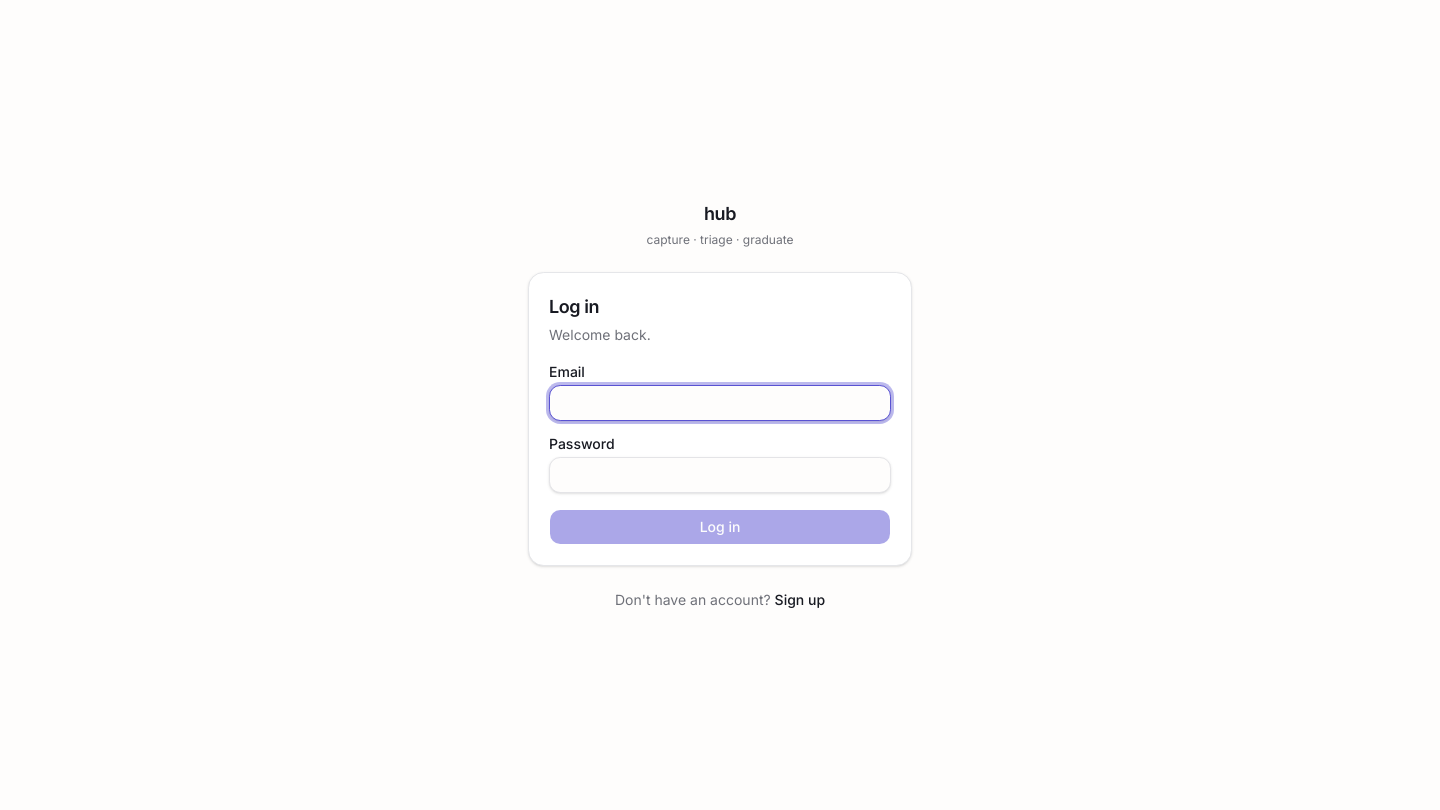
Test: Auth to dashboard flow › shows login when unauthenticated, then the dashboard with their projects after logging in
expect the text "Welcome back." is shown: met, box [549,326,651,343]
Type "me@example.com" into the field labelled "Email" at (720, 403), box [549,385,891,421]
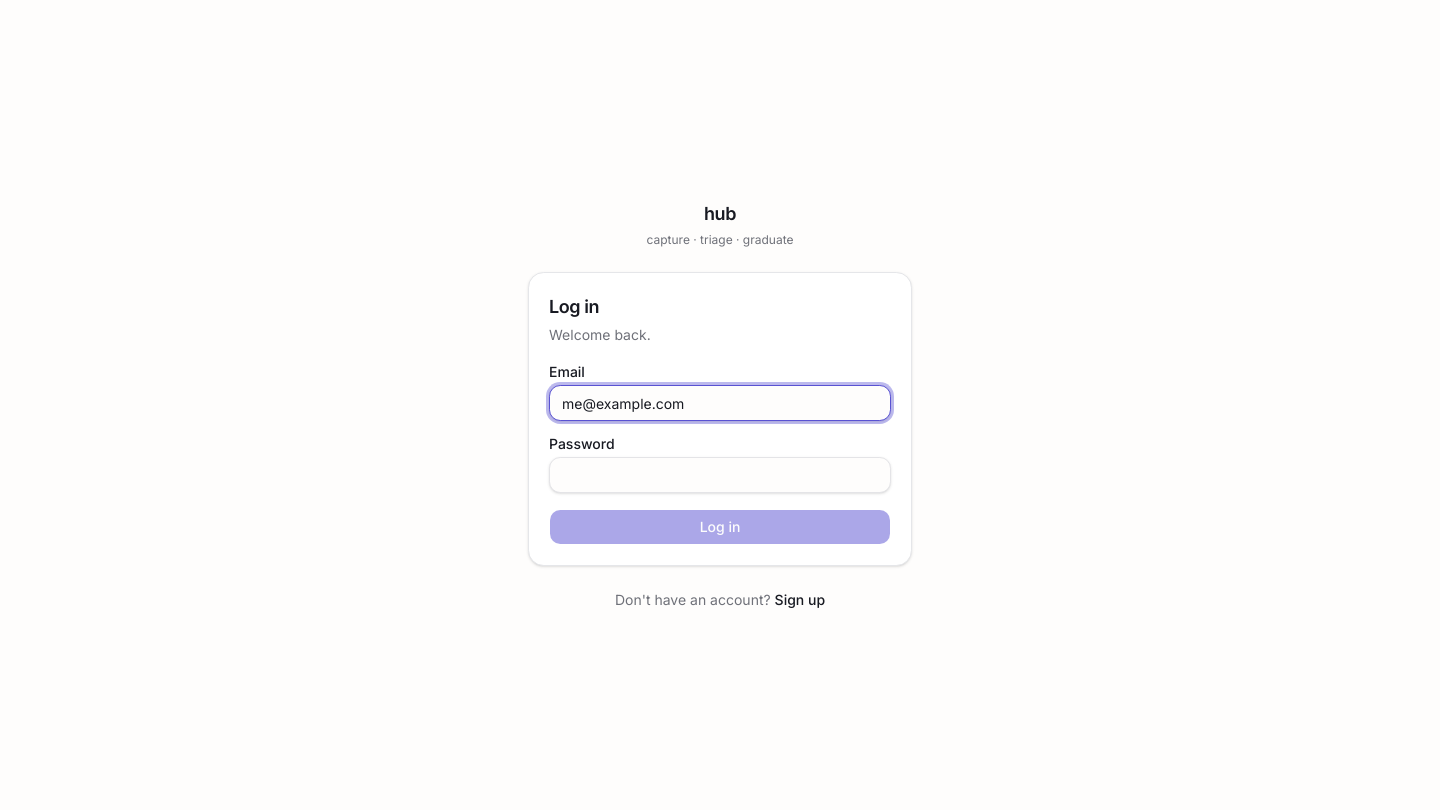
Type "correct-password" into the password field labelled "Password" at (720, 475), box [549,457,891,493]
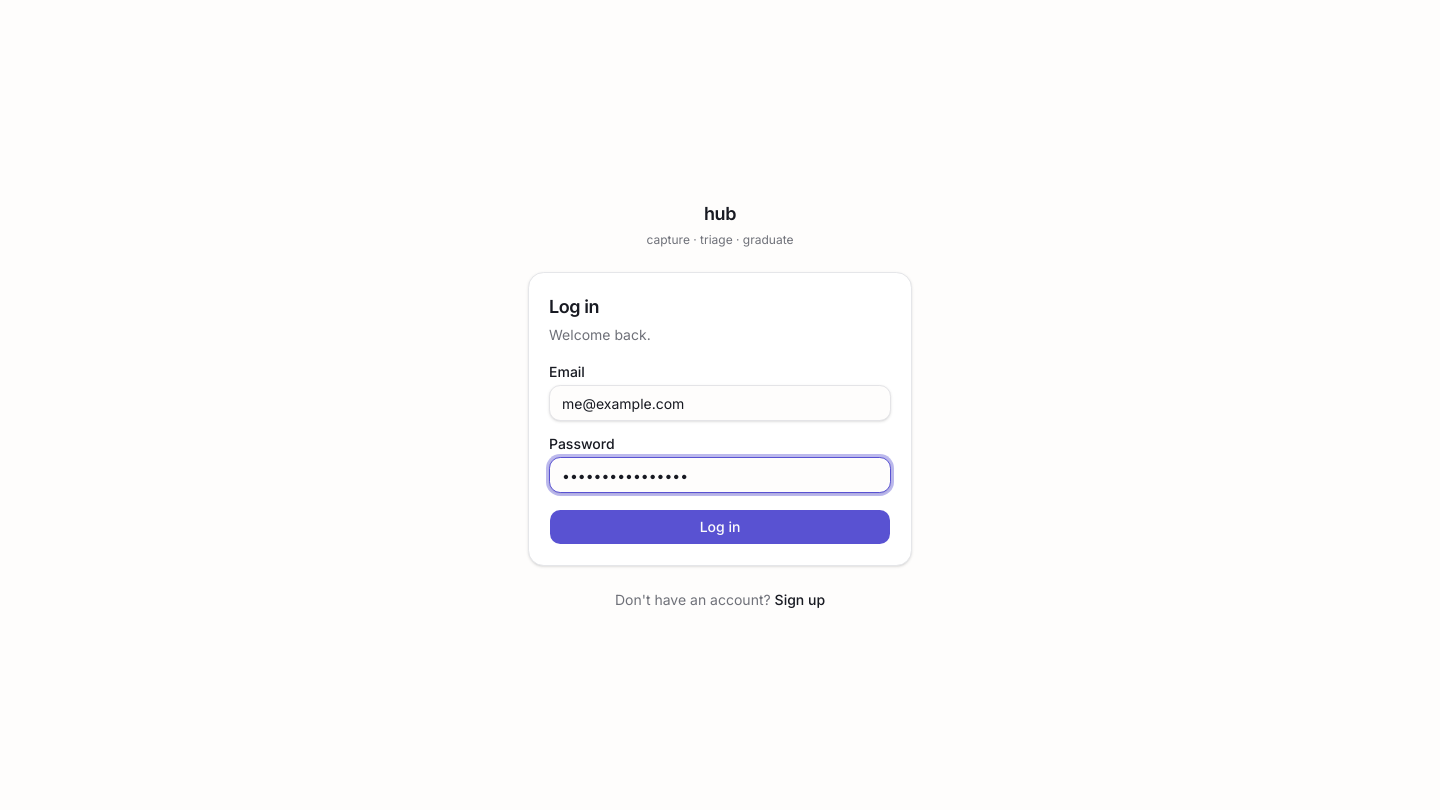
Click the button "Log in" at (720, 527), box [549,509,891,545]
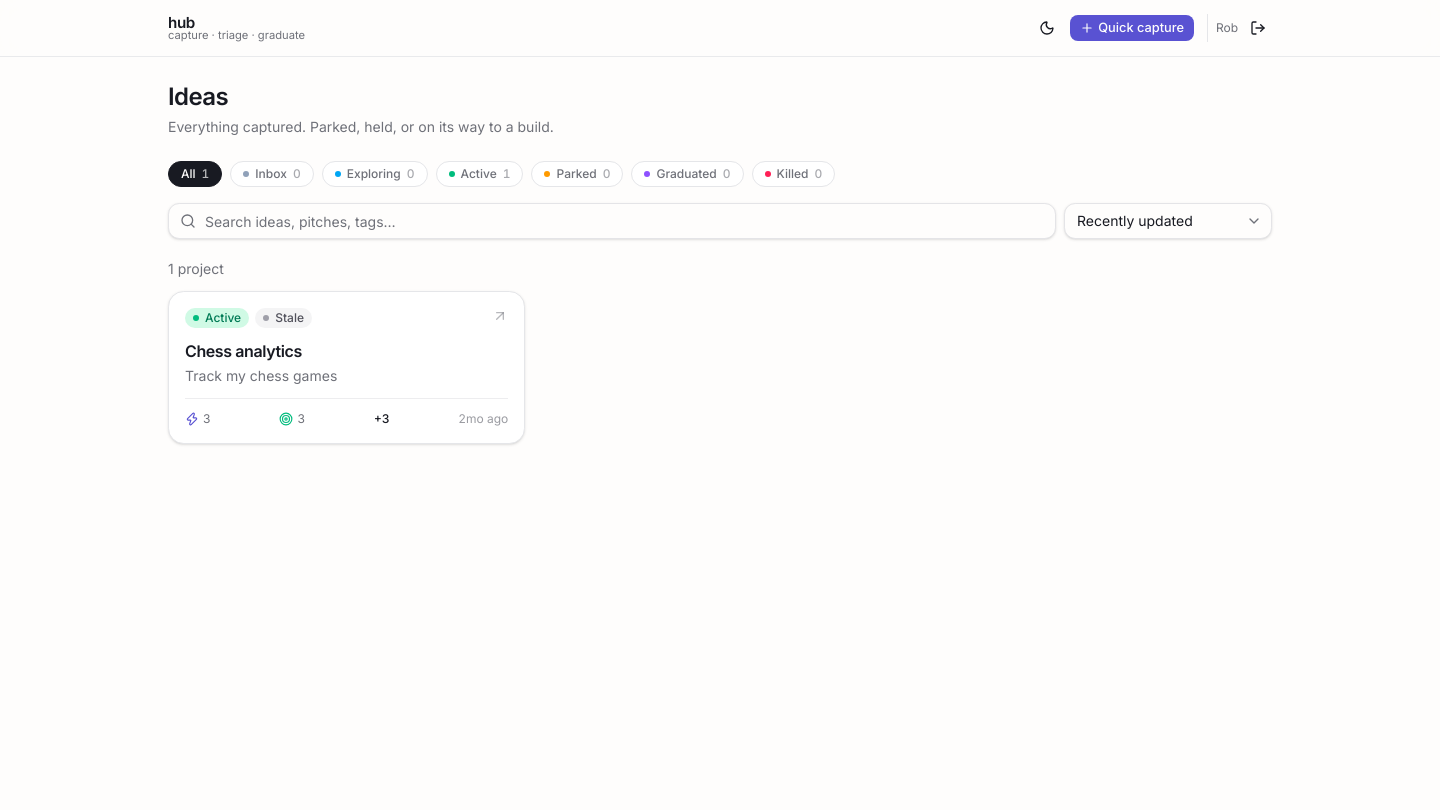
expect the heading "Chess analytics" is shown: met, box [185,341,302,361]
expect the heading "Ideas" is shown: met, box [168,82,228,111]
